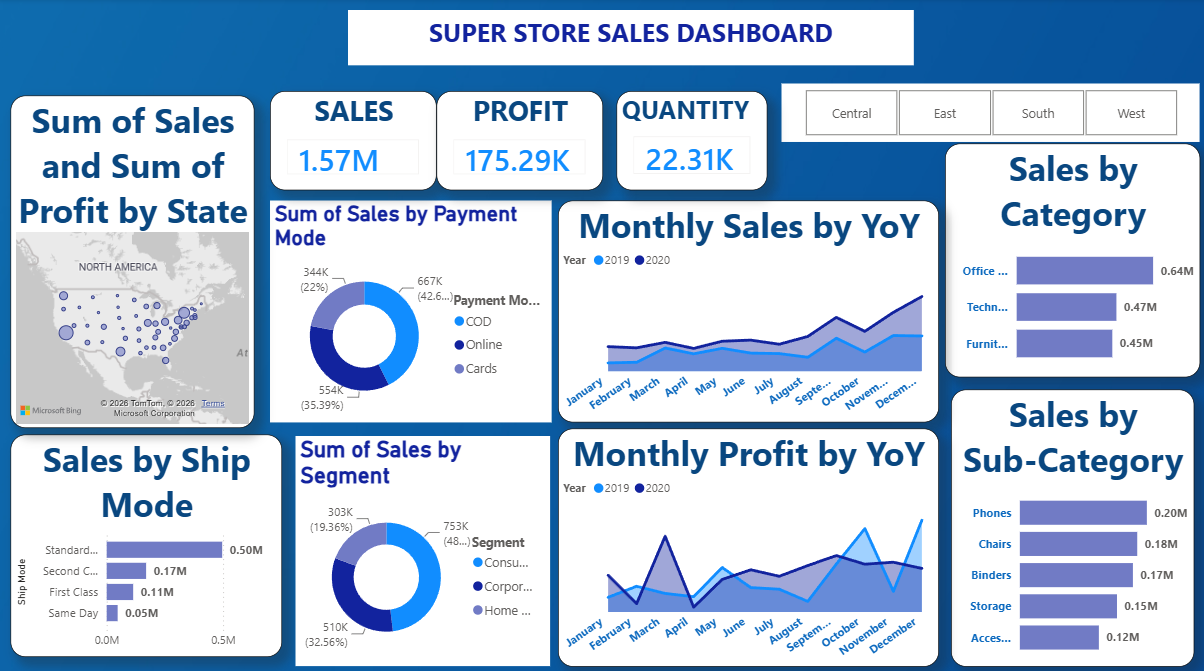

Layout of this report page (visuals, bound fields, positions):
{"tool":"powerbi","page":{"name":"Dashboard","canvas":[1280,720],"ordinal":0},"visuals":[{"type":"barChart","title":"Sales by Category","fields":{"Category":["SuperStore_Sales_Dataset.Category"],"Y":["Sum(SuperStore_Sales_Dataset.Sales)"]},"box":[1001.4,154.3,270.4,248.1],"z":0},{"type":"barChart","title":"Sales by Sub-Category","fields":{"Y":["Sum(SuperStore_Sales_Dataset.Sales)"],"Category":["SuperStore_Sales_Dataset.Sub-Category"]},"box":[1008.4,415.1,257.7,294.3],"z":1000},{"type":"barChart","title":"Sales by Ship Mode","fields":{"Category":["SuperStore_Sales_Dataset.Ship Mode"],"Y":["Sum(SuperStore_Sales_Dataset.Sales)"]},"box":[11.7,463.3,288,236],"z":2000},{"type":"areaChart","title":"Monthly Sales by YoY  ","fields":{"Y":["Sum(SuperStore_Sales_Dataset.Sales)"],"Series":["SuperStore_Sales_Dataset.Order Date.Variation.Date Hierarchy.Year"],"Category":["SuperStore_Sales_Dataset.Order Date.Variation.Date Hierarchy.Month"]},"box":[591.7,214.7,404,235.4],"z":3000},{"type":"areaChart","title":"Monthly Profit by YoY  ","fields":{"Series":["SuperStore_Sales_Dataset.Order Date.Variation.Date Hierarchy.Year"],"Category":["SuperStore_Sales_Dataset.Order Date.Variation.Date Hierarchy.Month"],"Y":["Sum(SuperStore_Sales_Dataset.Profit)"]},"box":[591.7,456.5,404,252.9],"z":4000},{"type":"donutChart","fields":{"Category":["SuperStore_Sales_Dataset.Segment"],"Y":["Sum(SuperStore_Sales_Dataset.Sales)"]},"box":[314,464,270,244],"z":5000},{"type":"donutChart","fields":{"Category":["SuperStore_Sales_Dataset.Payment Mode"],"Y":["Sum(SuperStore_Sales_Dataset.Sales)"]},"box":[286.7,215,298.3,235],"z":6000},{"type":"map","fields":{"Category":["SuperStore_Sales_Dataset.State"],"Size":["Sum(SuperStore_Sales_Dataset.Sales)"]},"box":[11.7,103.3,258.6,352.9],"z":7000},{"type":"slicer","fields":{"Values":["SuperStore_Sales_Dataset.Region"]},"box":[828.3,90,443.3,61.7],"z":8000},{"type":"textbox","box":[368.3,13.3,600,58.3],"z":9000},{"type":"cardVisual","title":"SALES","fields":{"Data":["Sum(SuperStore_Sales_Dataset.Sales)"]},"box":[286.7,98.3,176.7,105],"z":10000},{"type":"cardVisual","title":"PROFIT","fields":{"Data":["Sum(SuperStore_Sales_Dataset.Profit)"]},"box":[463.3,98.3,176.7,105],"z":11000},{"type":"cardVisual","title":"QUANTITY","fields":{"Data":["Sum(SuperStore_Sales_Dataset.Quantity)"]},"box":[653.3,98.3,160,105],"z":12000}]}

Visuals, with their boxes in screenshot pixels (x1, y1, x2, y2), scaled from the page's 1280x720 canvas onto the 1204x671 screenshot:
"Sales by Category" barChart: {"left": 942, "top": 144, "right": 1196, "bottom": 375}
"Sales by Sub-Category" barChart: {"left": 949, "top": 387, "right": 1191, "bottom": 661}
"Sales by Ship Mode" barChart: {"left": 11, "top": 432, "right": 282, "bottom": 652}
"Monthly Sales by YoY  " areaChart: {"left": 557, "top": 200, "right": 937, "bottom": 419}
"Monthly Profit by YoY  " areaChart: {"left": 557, "top": 425, "right": 937, "bottom": 661}
donutChart - SuperStore_Sales_Dataset.Segment x Sum(SuperStore_Sales_Dataset.Sales): {"left": 295, "top": 432, "right": 549, "bottom": 660}
donutChart - SuperStore_Sales_Dataset.Payment Mode x Sum(SuperStore_Sales_Dataset.Sales): {"left": 270, "top": 200, "right": 550, "bottom": 419}
map - SuperStore_Sales_Dataset.State x Sum(SuperStore_Sales_Dataset.Sales): {"left": 11, "top": 96, "right": 254, "bottom": 425}
slicer - SuperStore_Sales_Dataset.Region: {"left": 779, "top": 84, "right": 1196, "bottom": 141}
textbox: {"left": 346, "top": 12, "right": 911, "bottom": 67}
"SALES" cardVisual: {"left": 270, "top": 92, "right": 436, "bottom": 189}
"PROFIT" cardVisual: {"left": 436, "top": 92, "right": 602, "bottom": 189}
"QUANTITY" cardVisual: {"left": 615, "top": 92, "right": 765, "bottom": 189}
